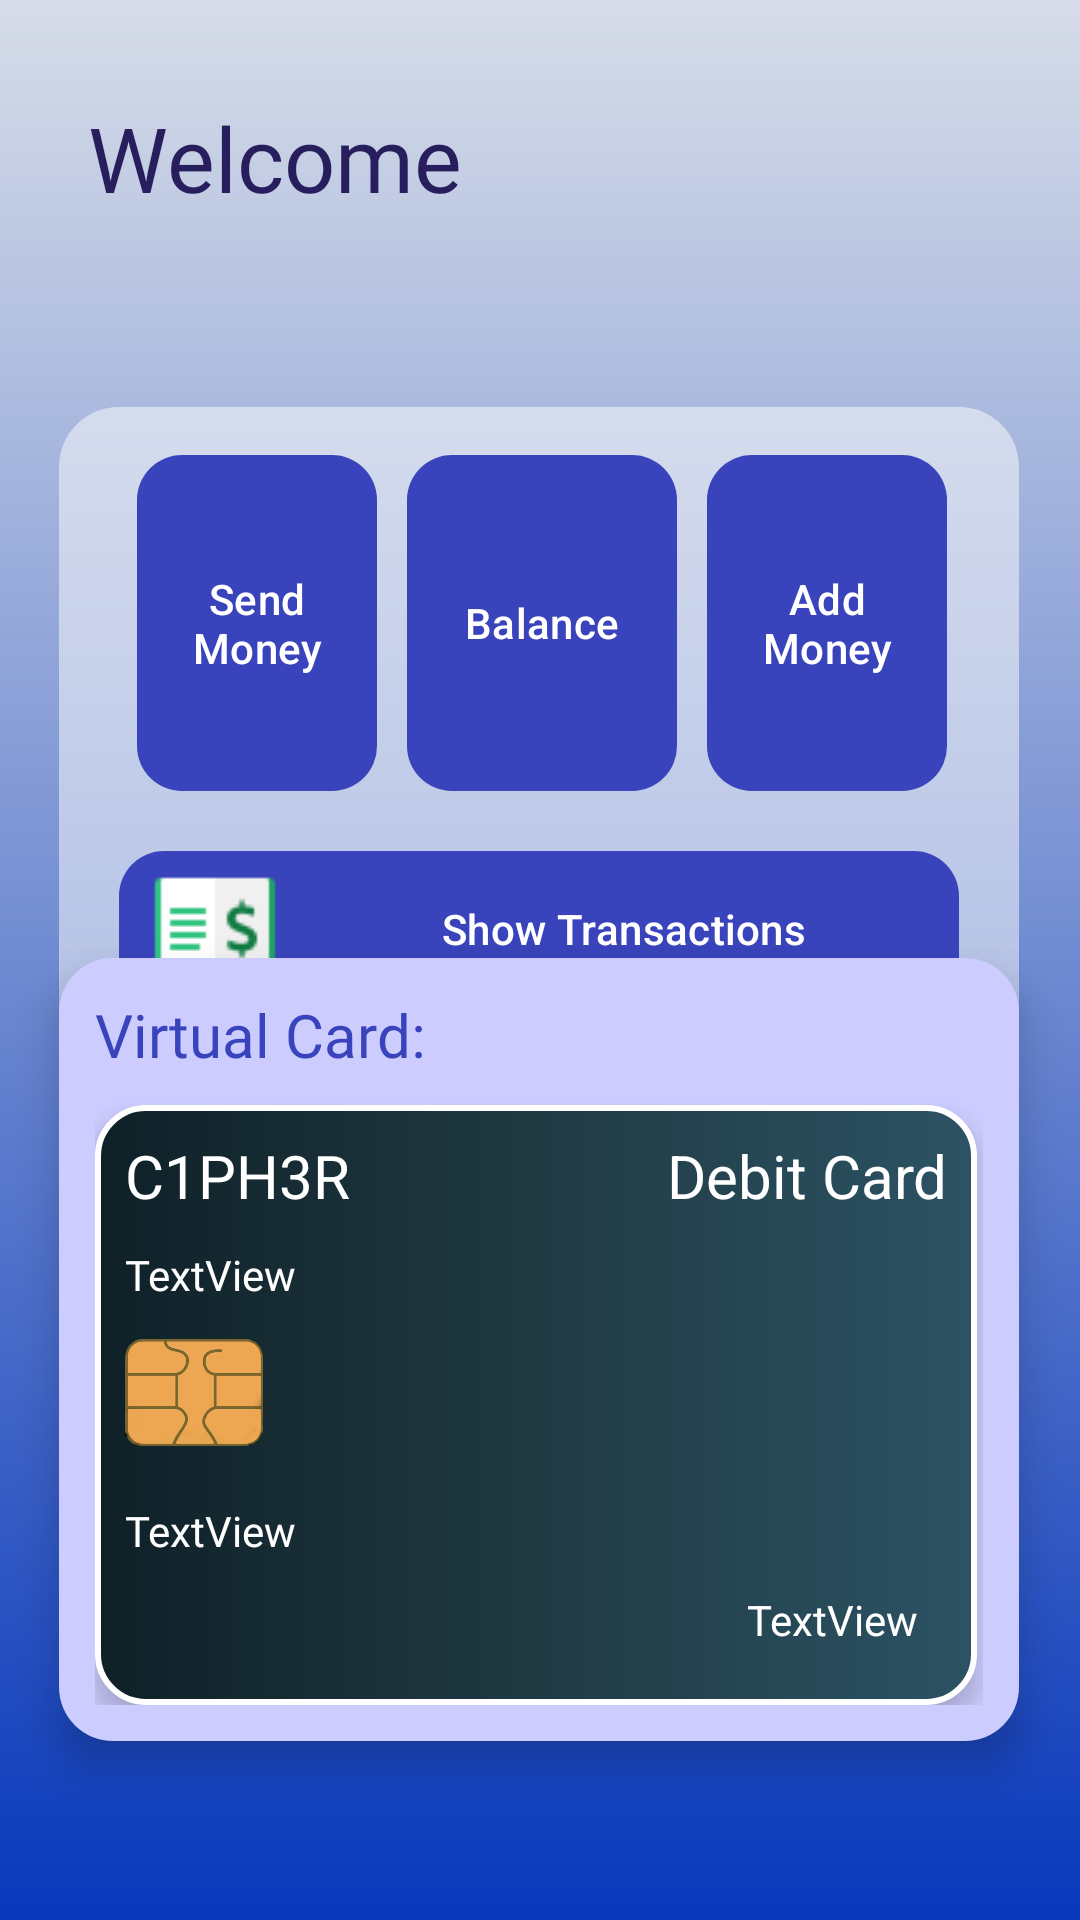

Screen size 1080px×1920px. Icon name, then its center in pixels as [x,y]:
chip: [194,1392]
